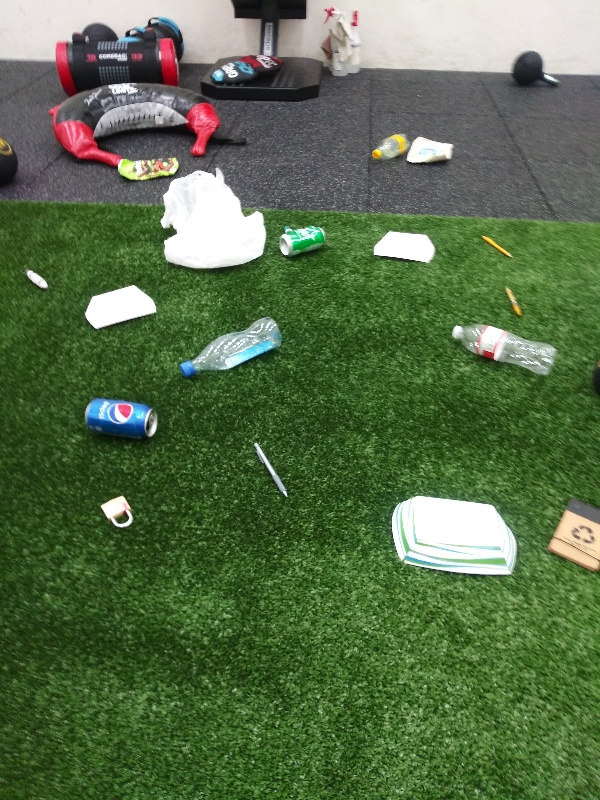bag: (405, 130, 457, 171), (115, 153, 181, 183)
bottle: (177, 312, 284, 383), (443, 321, 558, 382), (367, 130, 412, 163)
can: (79, 394, 161, 442), (277, 223, 329, 261)
plate: (386, 491, 519, 582), (82, 280, 159, 330), (370, 226, 438, 273)
